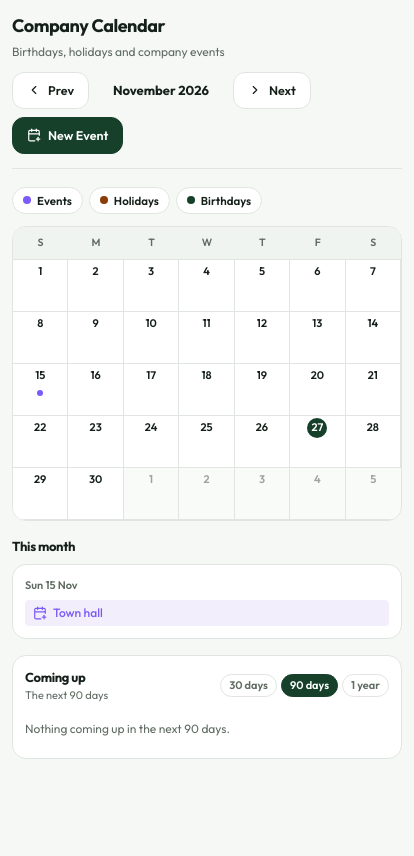
it: CompanyCalendar on phones › lists the month's entries under the grid, and just the tapped day's when one is picked
The image size is (414, 856).
Expected: the text "Town hall" is shown, left=53, top=604, right=103, bottom=622
Expected: the heading "This month" is shown, left=12, top=536, right=75, bottom=556
Click the button "15" at (40,389), box left=15, top=366, right=65, bottom=412
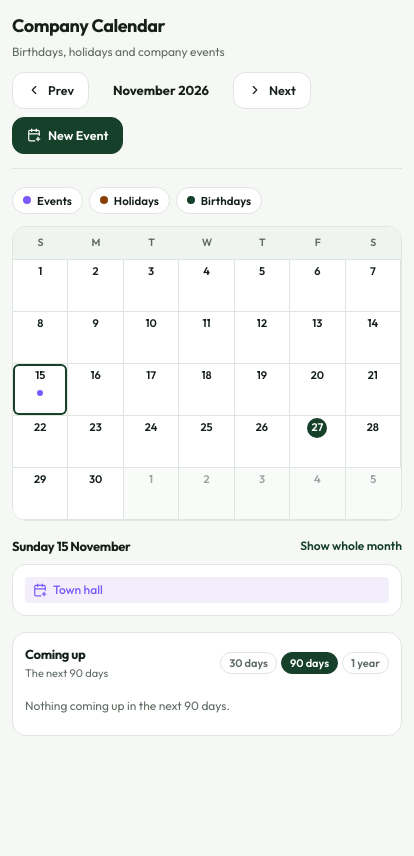
Expected: the text "Town hall" is shown, left=53, top=581, right=103, bottom=599
# a day with nothing on it
Click the button "16" at (96,389), box left=70, top=366, right=121, bottom=412
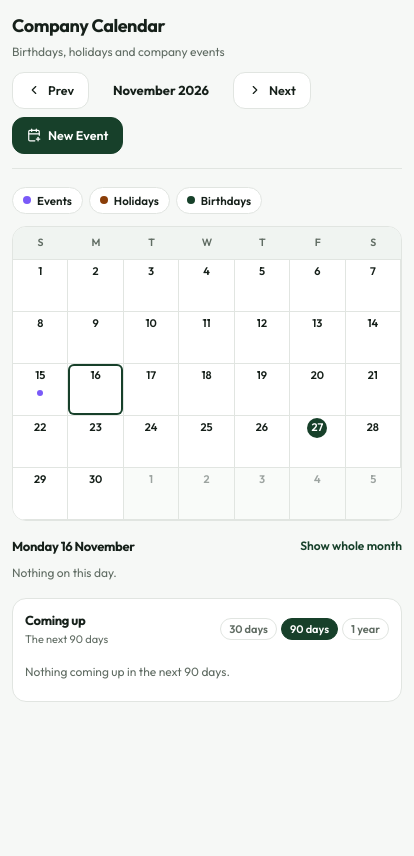
Now the text "Nothing on this day." is shown, box left=12, top=565, right=117, bottom=580
Click the button "Show whole month" at (351,546), box left=300, top=537, right=402, bottom=555
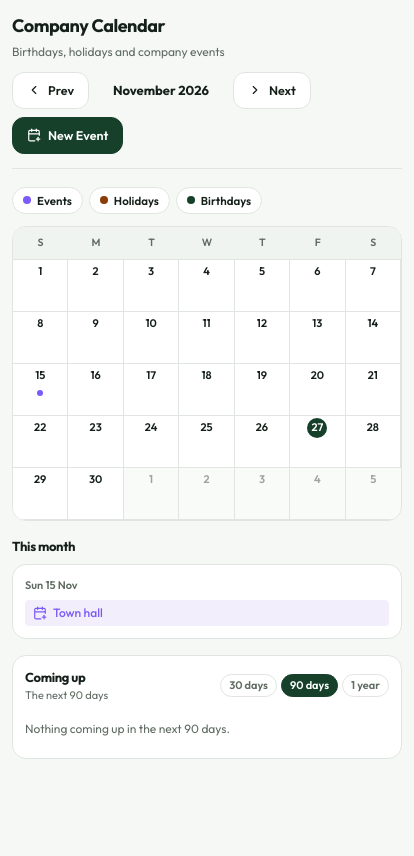
Now the text "Town hall" is shown, box left=53, top=604, right=103, bottom=622
